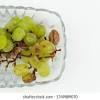Grape Unripe: (0, 16, 60, 82)
